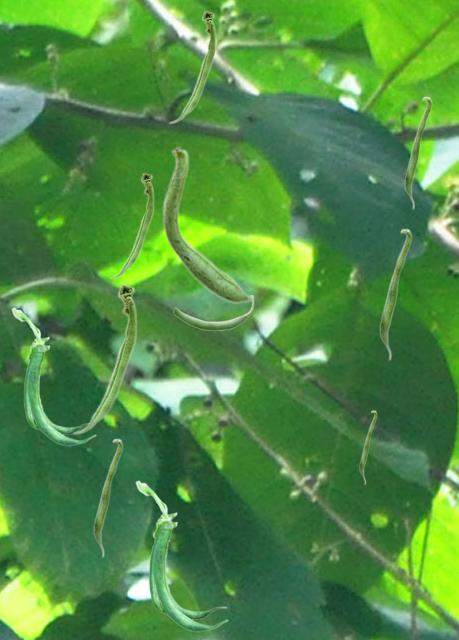french_bean: (162, 145, 253, 303), (135, 480, 227, 631), (11, 307, 95, 445), (72, 283, 136, 434), (168, 10, 215, 123), (109, 172, 153, 278), (379, 228, 411, 360), (93, 438, 122, 557), (404, 96, 431, 209), (173, 302, 253, 330), (359, 410, 376, 484)
